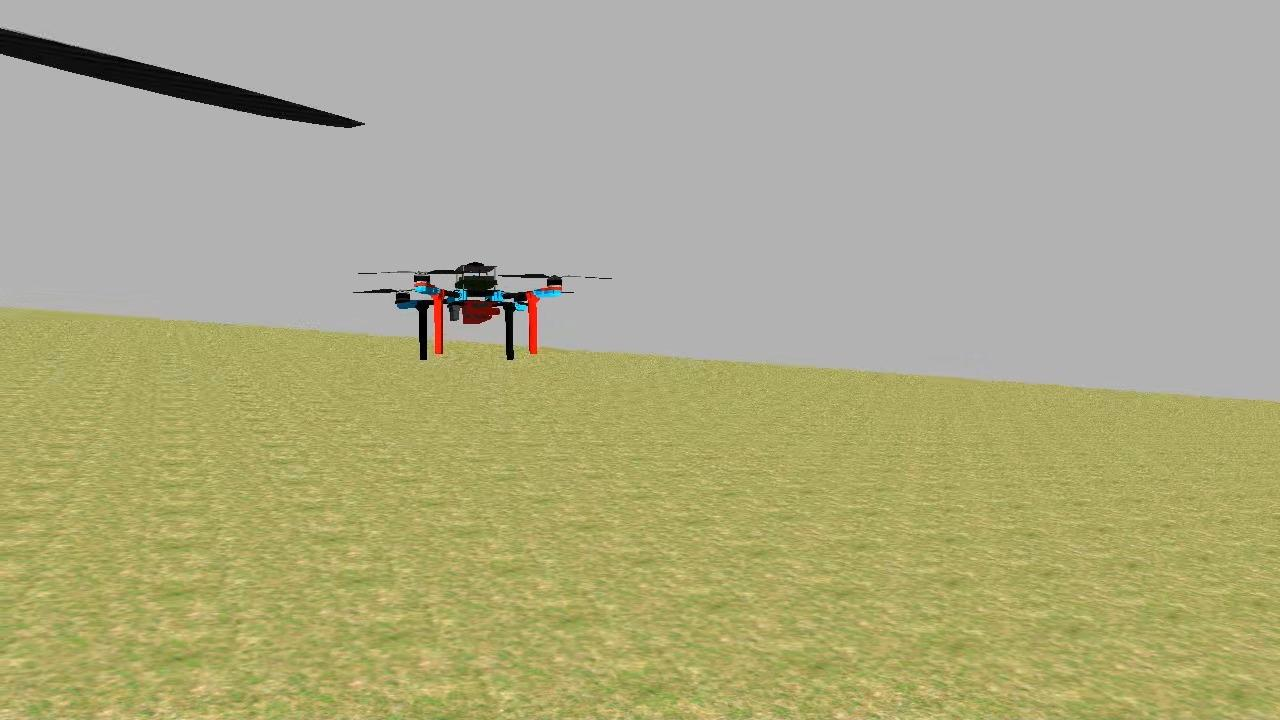UAV: (390, 258, 570, 364)
